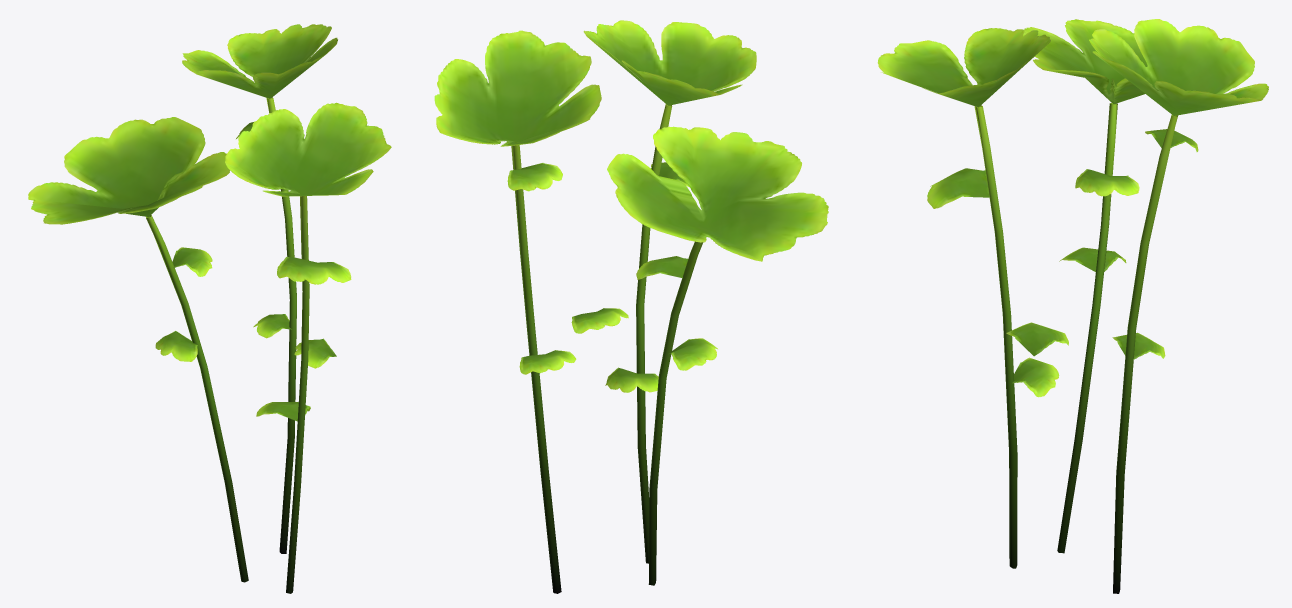
Rendered from clover_1.glb.
3 views of the same model, side by side, from view 1: azimuth 30°, elevation 25°; view 2: azimuth 150°, elevation 25°; view 3: azimuth 270°, elevation 25° (orthographic). The views are drawn at different scales.
Visible parts, largest first — view 1: Clover_1; view 2: Clover_1; view 3: Clover_1.
Boxes of the visible parts, box(x1,y1,x2,y2) form: Clover_1: box(28, 24, 391, 593); Clover_1: box(434, 20, 828, 593); Clover_1: box(877, 19, 1268, 593).
Size of the model in its own units: 0.7963 by 1.14 by 0.7639.
Materials: 1 (1 with a texture image).
